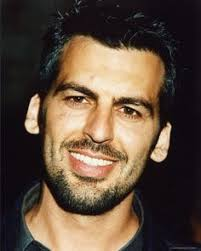middle_eastern_male: (36, 13, 169, 213)
